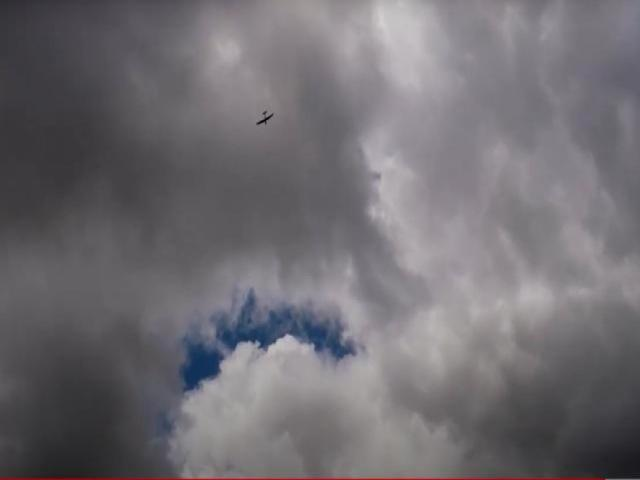iha: (255, 109, 277, 130)
